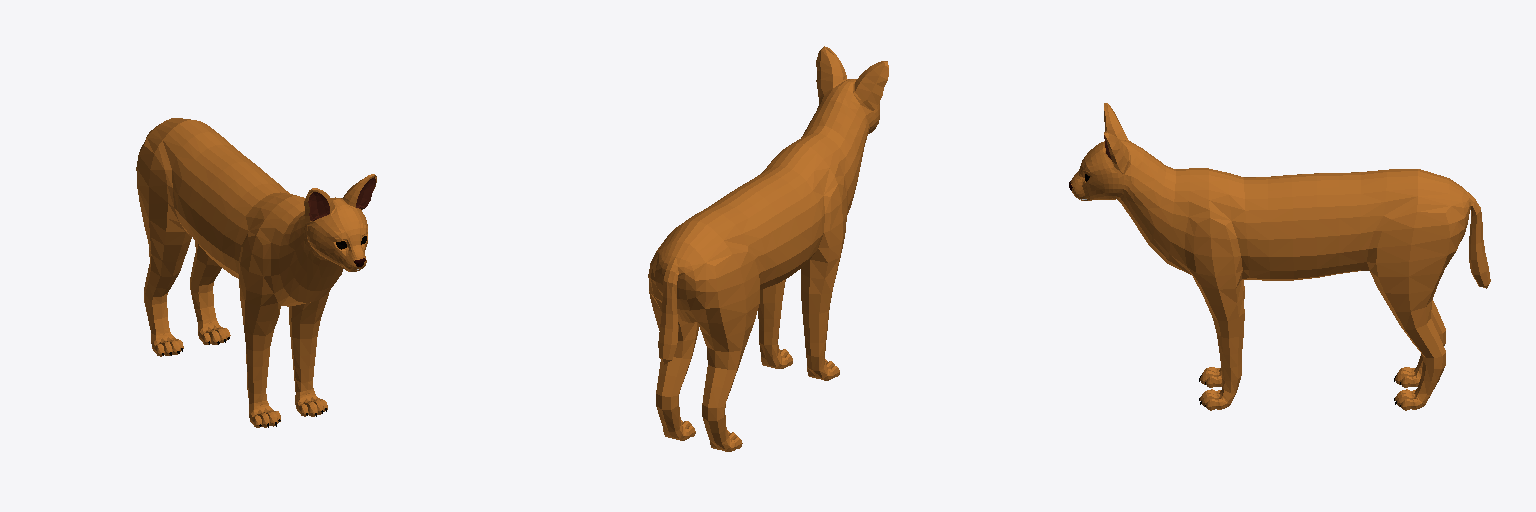
The model's file is serval_serval.obj.
3 views of the same model, side by side, from view 1: azimuth 30°, elevation 25°; view 2: azimuth 150°, elevation 25°; view 3: azimuth 270°, elevation 25° (orthographic).
Visible parts, largest first — view 1: serval; view 2: serval; view 3: serval.
Part boxes in pixels (x1,y1,x2,y2): serval: (136, 118, 376, 427); serval: (648, 46, 888, 451); serval: (1069, 103, 1490, 410).
Size of the model in its own units: 0.2282 by 0.7029 by 0.9723.